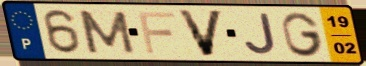6: (41, 7, 82, 55)
F: (135, 10, 178, 56)
G: (279, 10, 326, 58)
J: (242, 12, 279, 57)
M: (75, 9, 138, 55)
V: (175, 8, 227, 58)
